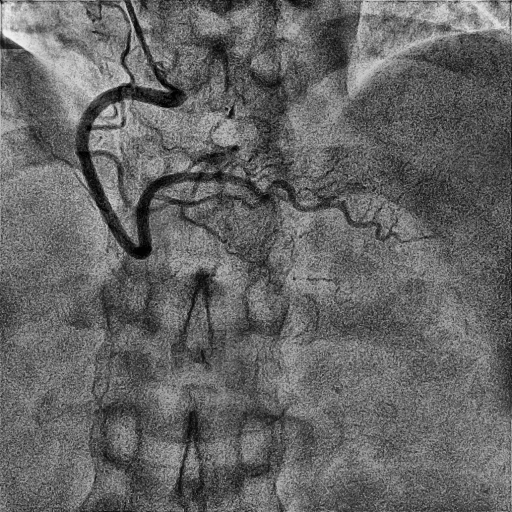pda: (186, 173, 428, 243)
rca: (76, 85, 188, 259)
